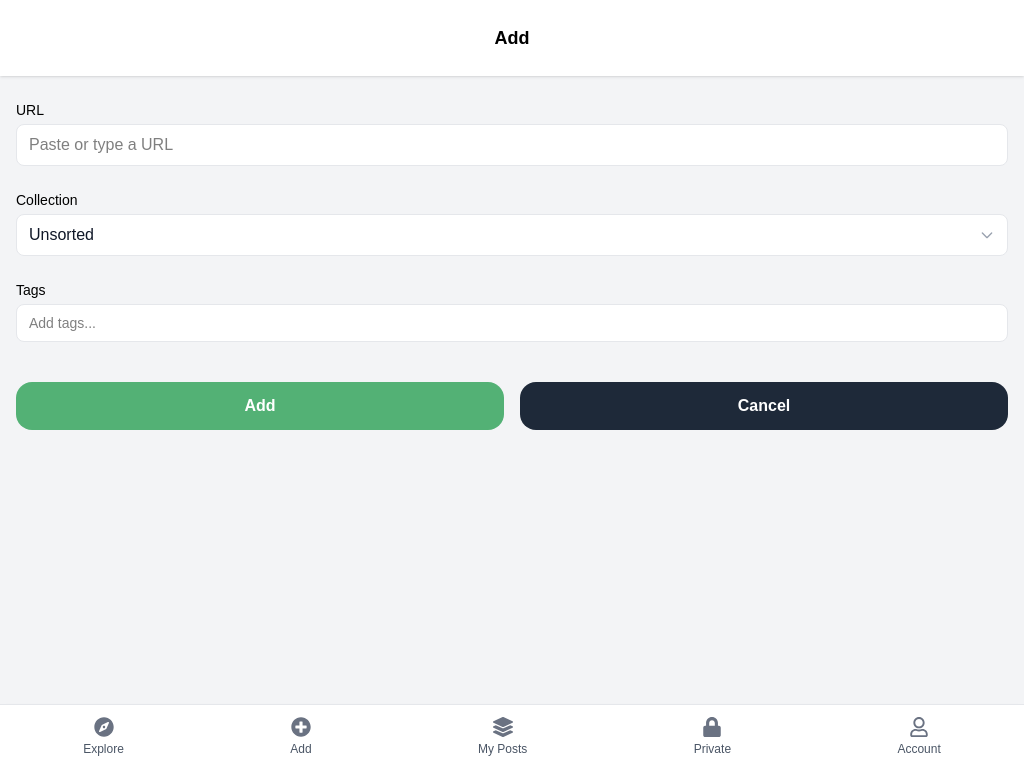
Test: AddPage › shows error if metadata fetch fails
Step 1. Type "https://fail.com" into the field with placeholder "Paste or type a URL" → (512, 145), box [16,124,1008,166]
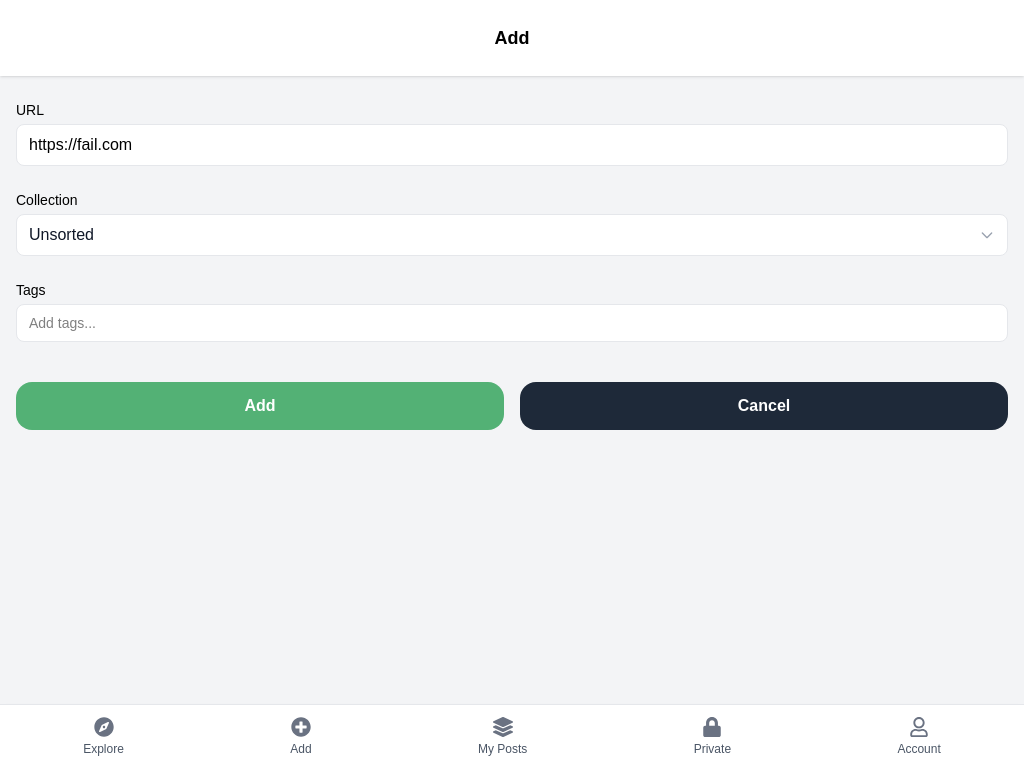
Step 2. Click the button "Add" → (260, 406), box [16,382,504,430]
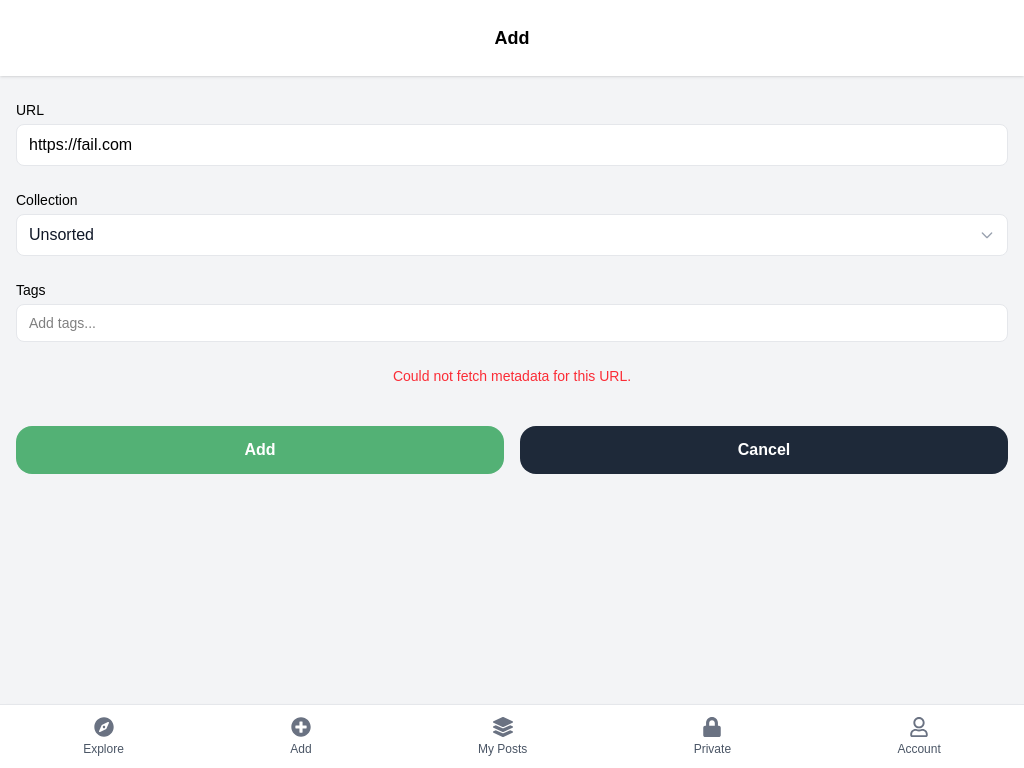
Result: the text "Could not fetch metadata for this URL." is shown at [393,368,631,384]
